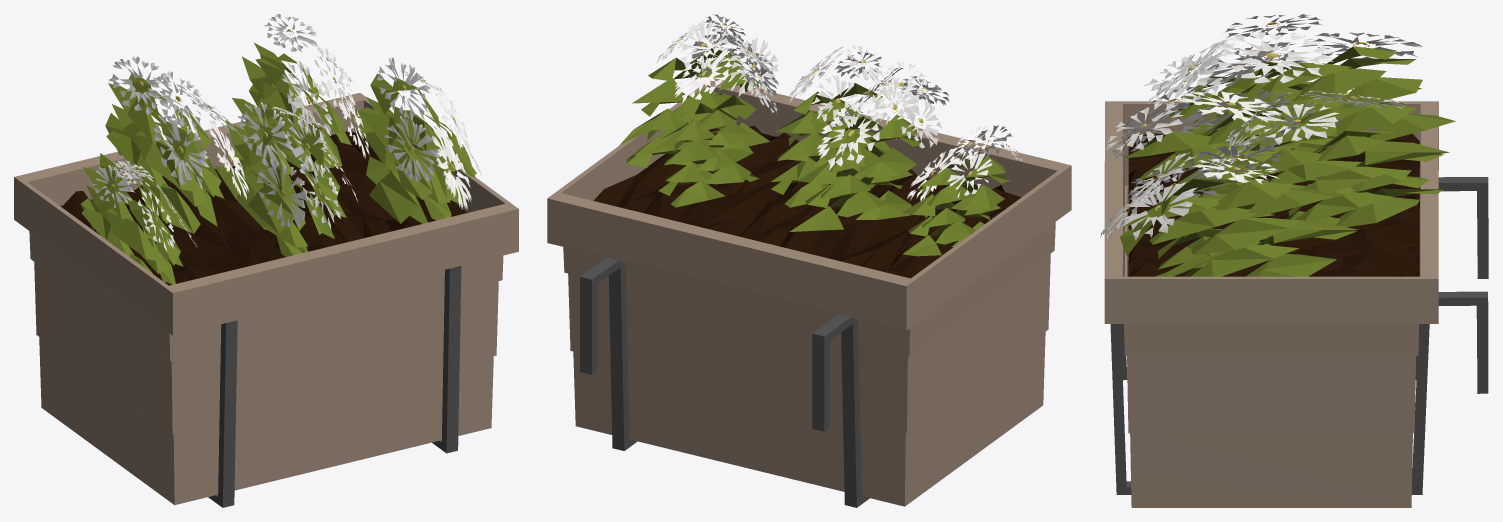
Rendered from sh-bs0-flower-box.glb.
The picture shows the model from 3 angles, left to right: view 1: azimuth 30°, elevation 25°; view 2: azimuth 150°, elevation 25°; view 3: azimuth 270°, elevation 25°; orthographic projection. The views are drawn at different scales.
Visible parts, largest first — view 1: Cube.309_Cube.303; view 2: Cube.309_Cube.303; view 3: Cube.309_Cube.303.
Part boxes in pixels (box(x1,y1,x2,y2)): Cube.309_Cube.303: box(14, 14, 518, 507); Cube.309_Cube.303: box(547, 14, 1071, 507); Cube.309_Cube.303: box(1100, 14, 1488, 507).
Bounding box in the file's own units: 1 × 1 × 0.9249.
